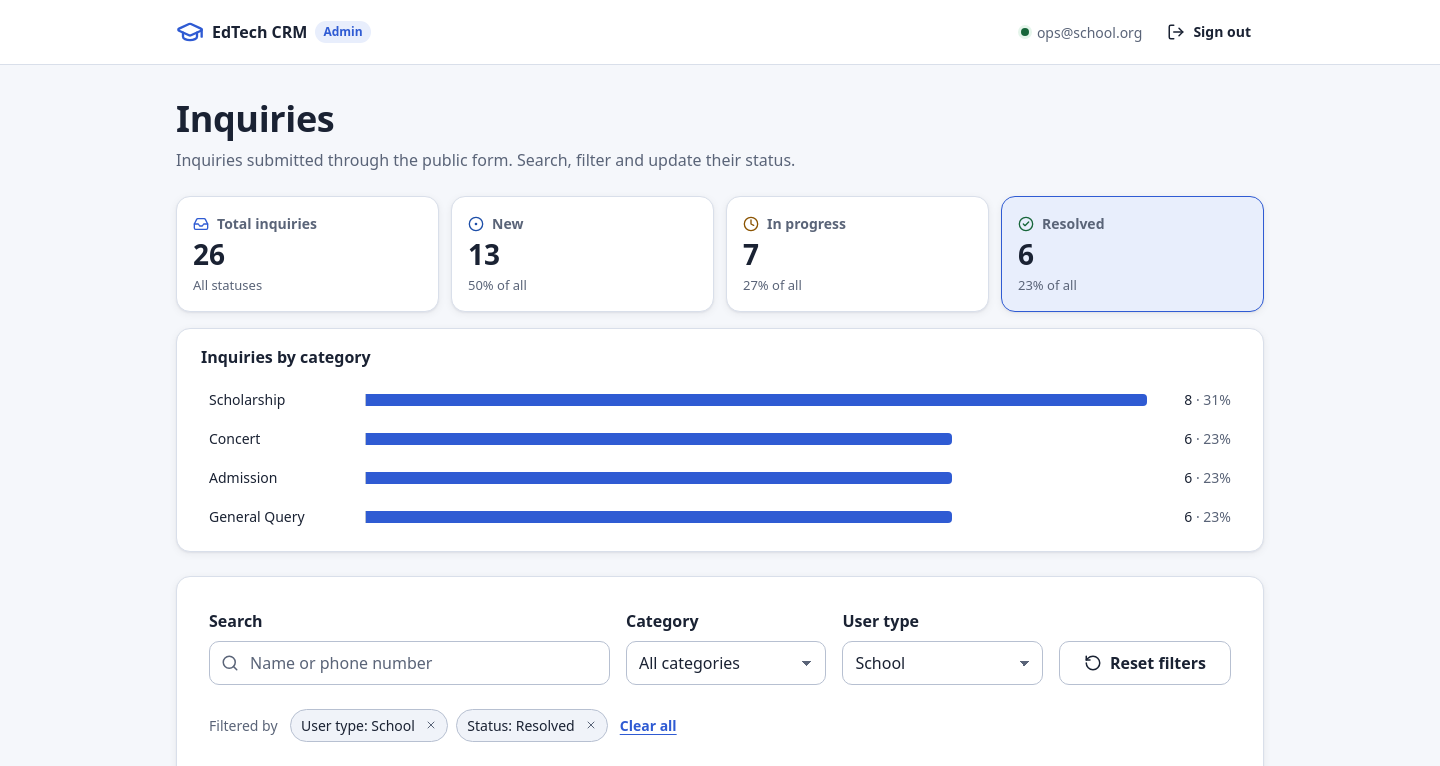
Test: active filter chips › clear everything at once
What coordinates should you click on to do the following:
click the button "Clear all"
I would click on:
 (648, 726)
Its box is [620, 715, 677, 736].
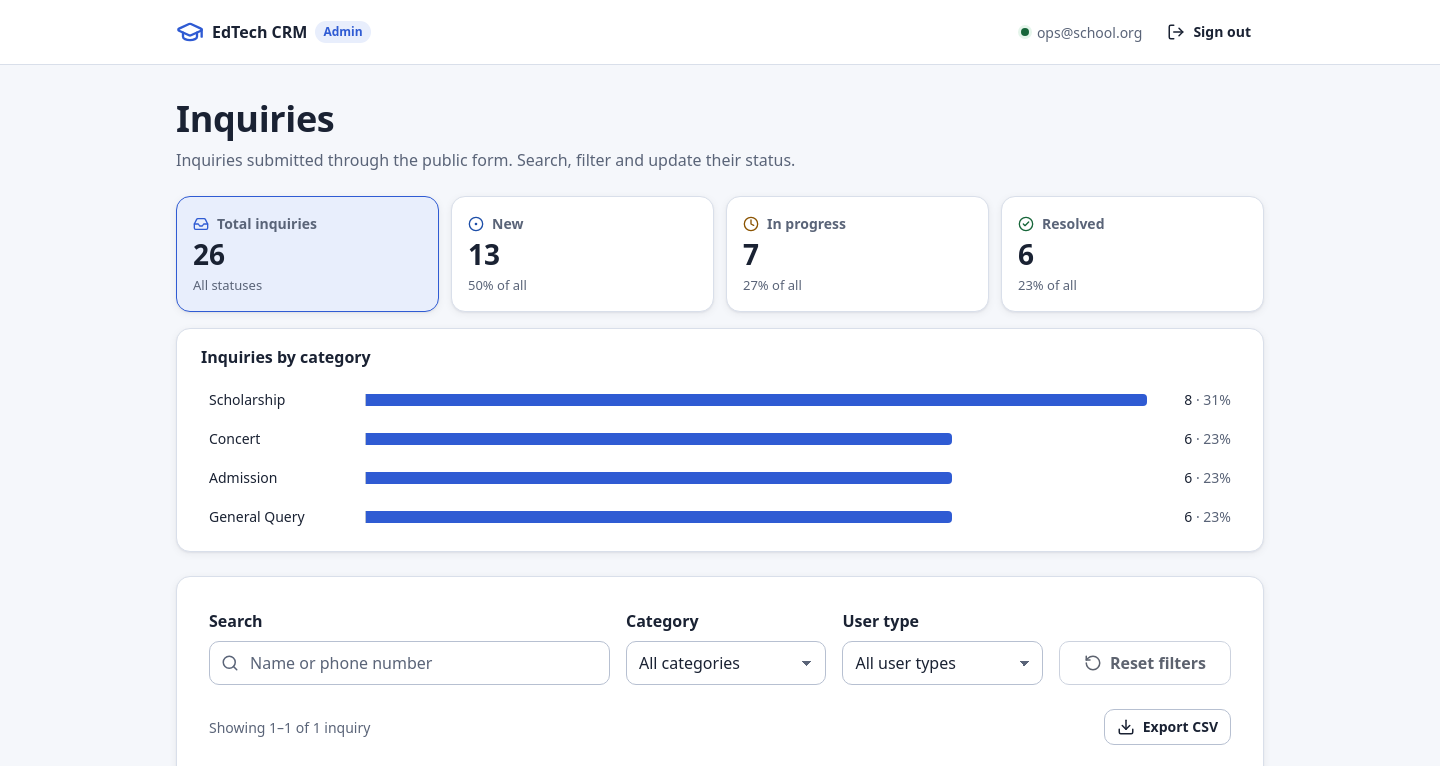
Result: the text "Filtered by" is gone
